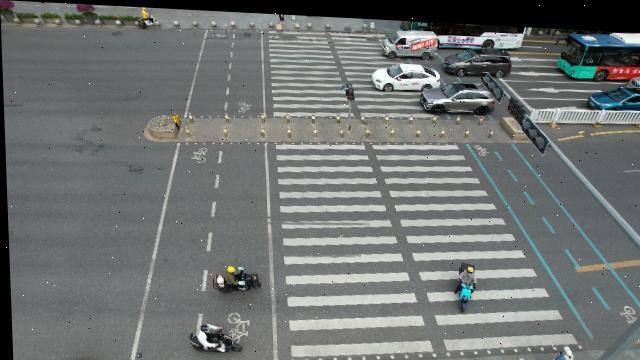non-motor-vehicle: (183, 321, 240, 352), (209, 260, 260, 292), (453, 256, 476, 310), (138, 10, 157, 28)
person: (544, 340, 573, 360), (276, 12, 285, 31)
